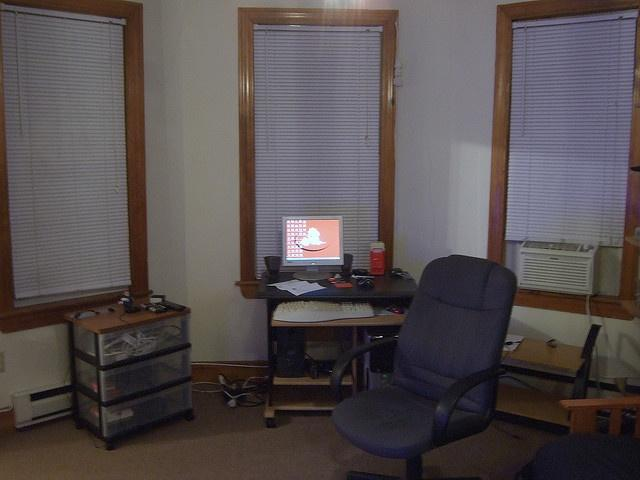AIO PC-Monitor-TV: (279, 214, 344, 280)
Kursi: (328, 254, 517, 479)
